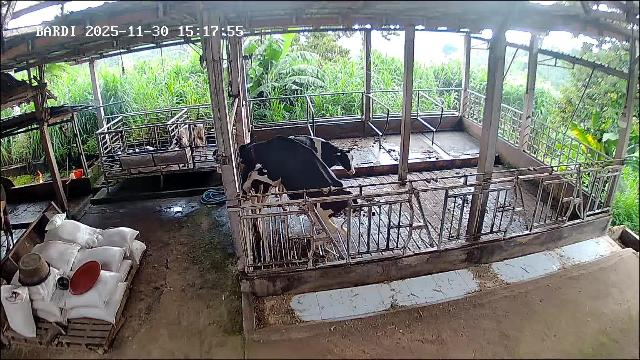mounting: (239, 136, 353, 258)
